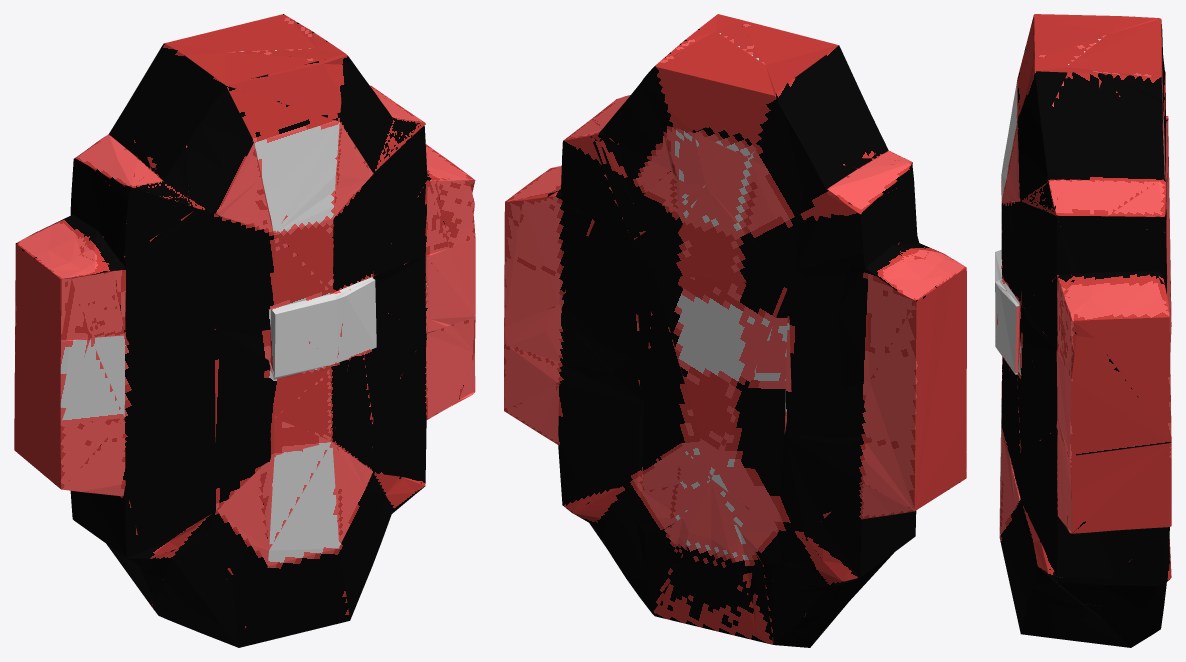
3 renders of one model, left to right at view 1: azimuth 30°, elevation 25°; view 2: azimuth 150°, elevation 25°; view 3: azimuth 270°, elevation 25°, orthographic.
Parts seen in each view (by area): view 1: OBJ0a3; view 2: OBJ0a3; view 3: OBJ0a3.
Boxes of the visible parts, left/top/right/bottom form: OBJ0a3: left=14, top=14, right=475, bottom=647; OBJ0a3: left=504, top=14, right=966, bottom=647; OBJ0a3: left=995, top=14, right=1171, bottom=647.
Size of the model in its own units: 0.0962 by 0.1248 by 0.0353.
1 material, 1 textured.
